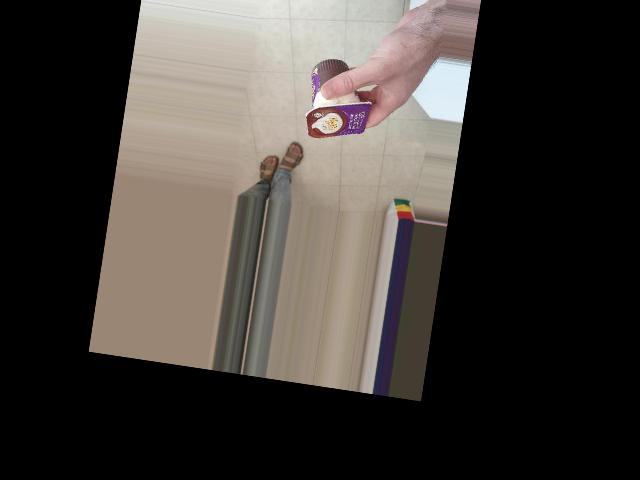milky: (274, 74, 367, 148)
